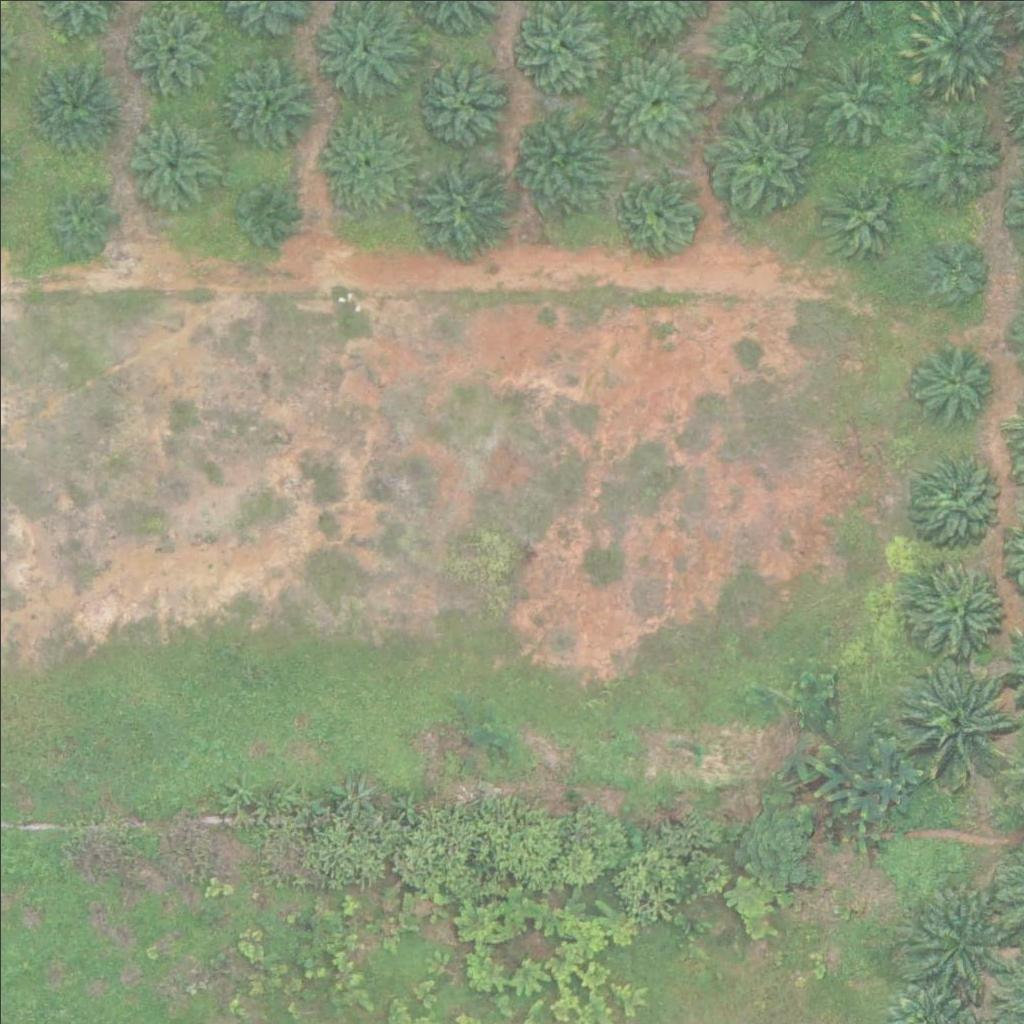Kelapa_Sawit: (597, 43, 710, 157), (900, 876, 1013, 989), (898, 661, 1010, 774), (403, 147, 515, 260), (906, 559, 1006, 660), (904, 103, 1004, 204), (507, 104, 607, 205), (406, 45, 506, 146), (313, 107, 413, 208), (311, 1, 411, 102), (217, 49, 317, 150), (120, 111, 220, 212), (904, 446, 1004, 546), (711, 105, 811, 205), (911, 334, 999, 422), (816, 172, 904, 260), (30, 57, 118, 145), (801, 52, 888, 140), (616, 169, 703, 257), (48, 186, 111, 249), (231, 184, 294, 247), (923, 239, 986, 302)
